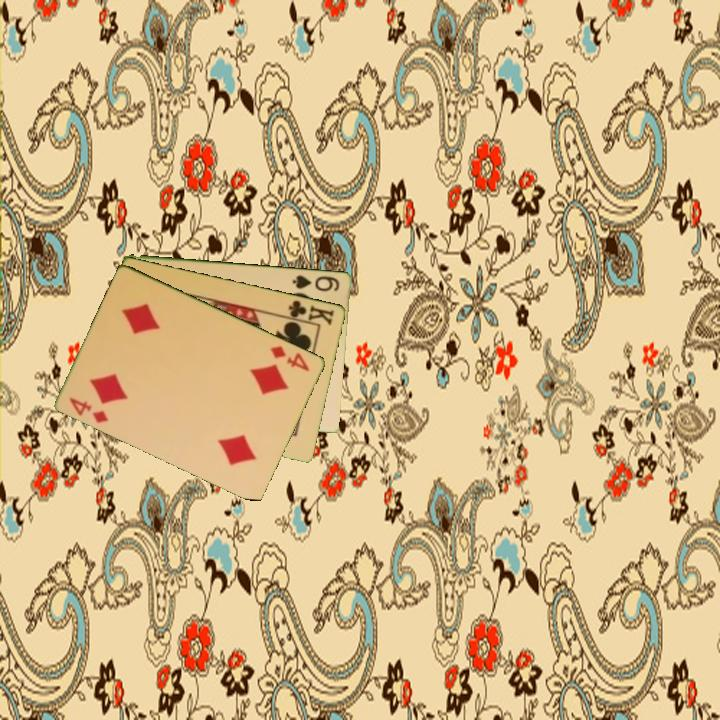4d: (66, 393, 111, 426), (267, 342, 313, 374)
6s: (289, 271, 343, 294)
Kc: (281, 296, 337, 328)
